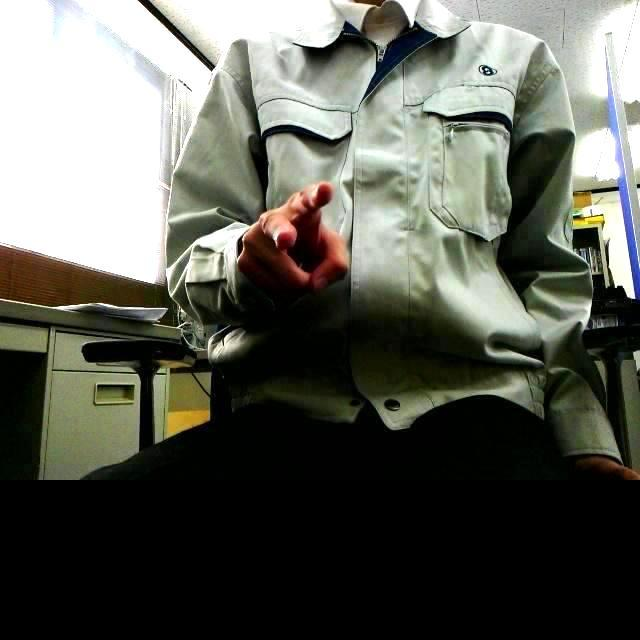tyoki: (236, 179, 352, 304)
